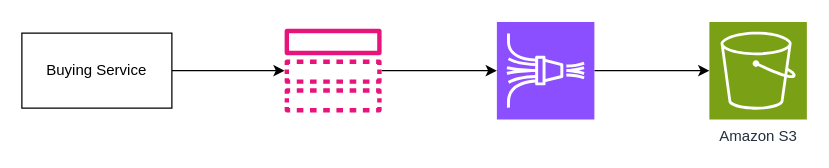
This 829x168 diagram has some shape labels left out. Each missing label, with the centre of its shape:
Amazon SNS - Topic: the point at 332,70
Kinesis Data Fireshose: the point at 545,70
